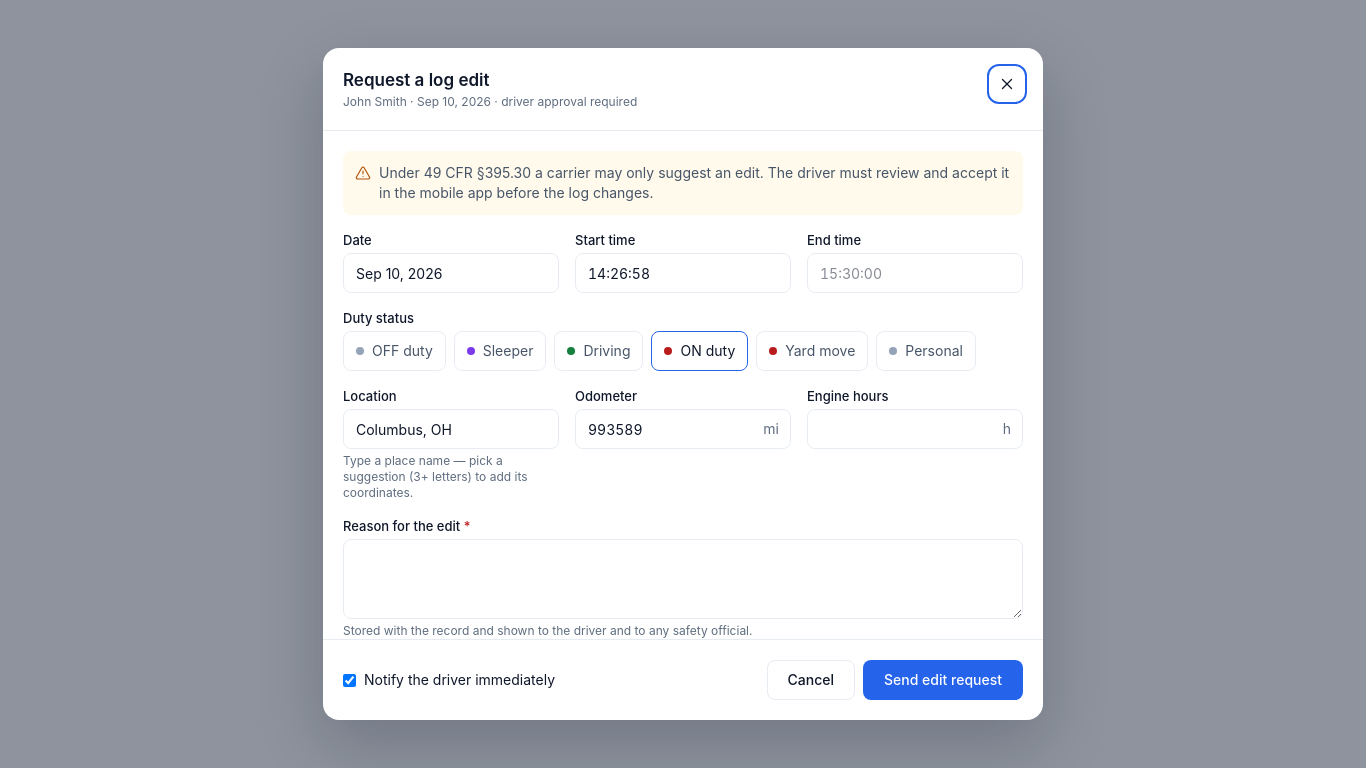
Test case: 11.11 refusals are never silent › DRIVING_TIME_IMMUTABLE is still shown verbatim
The width and height of the screenshot is (1366, 768).
Type "Wrong status." into the text box labelled "Reason for the edit *" at (683, 579), box left=343, top=539, right=1023, bottom=619
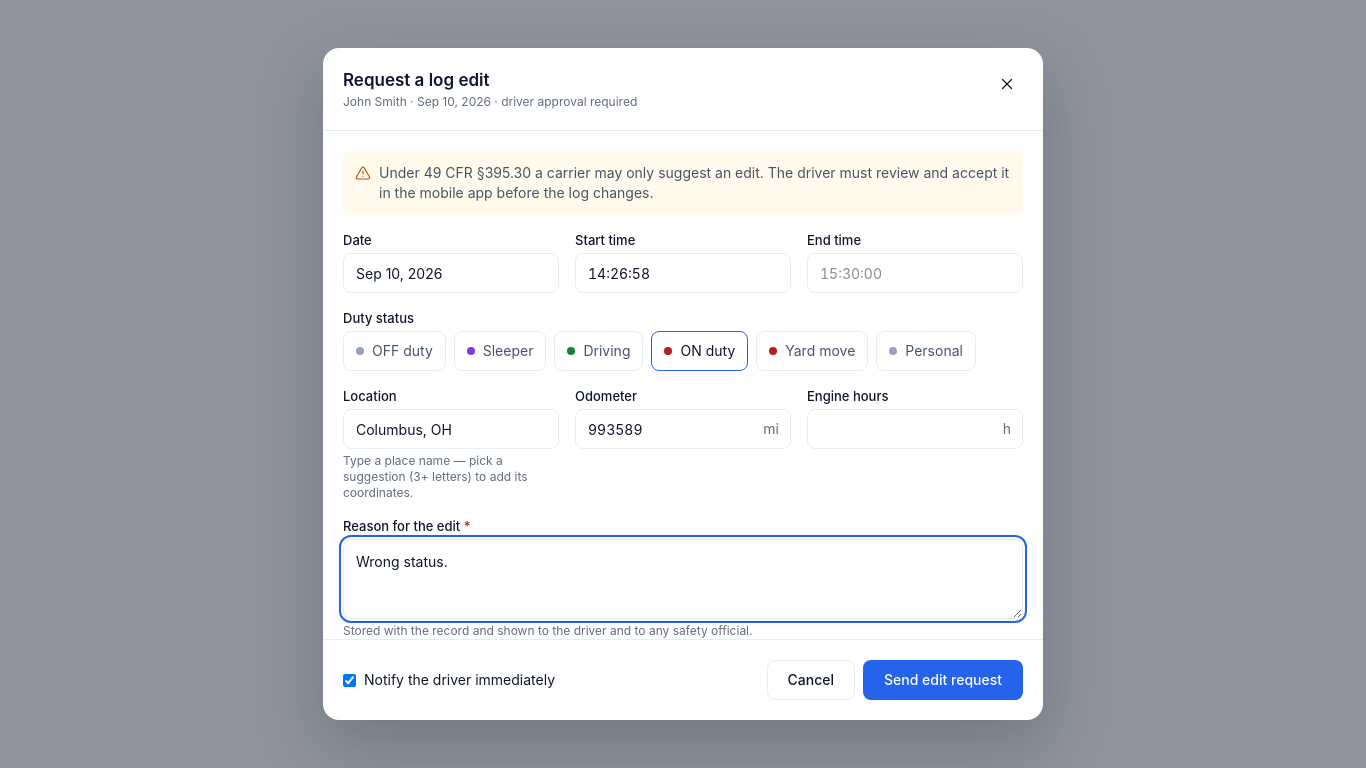
Click the button "Send edit request" at (943, 680), box left=863, top=660, right=1023, bottom=700
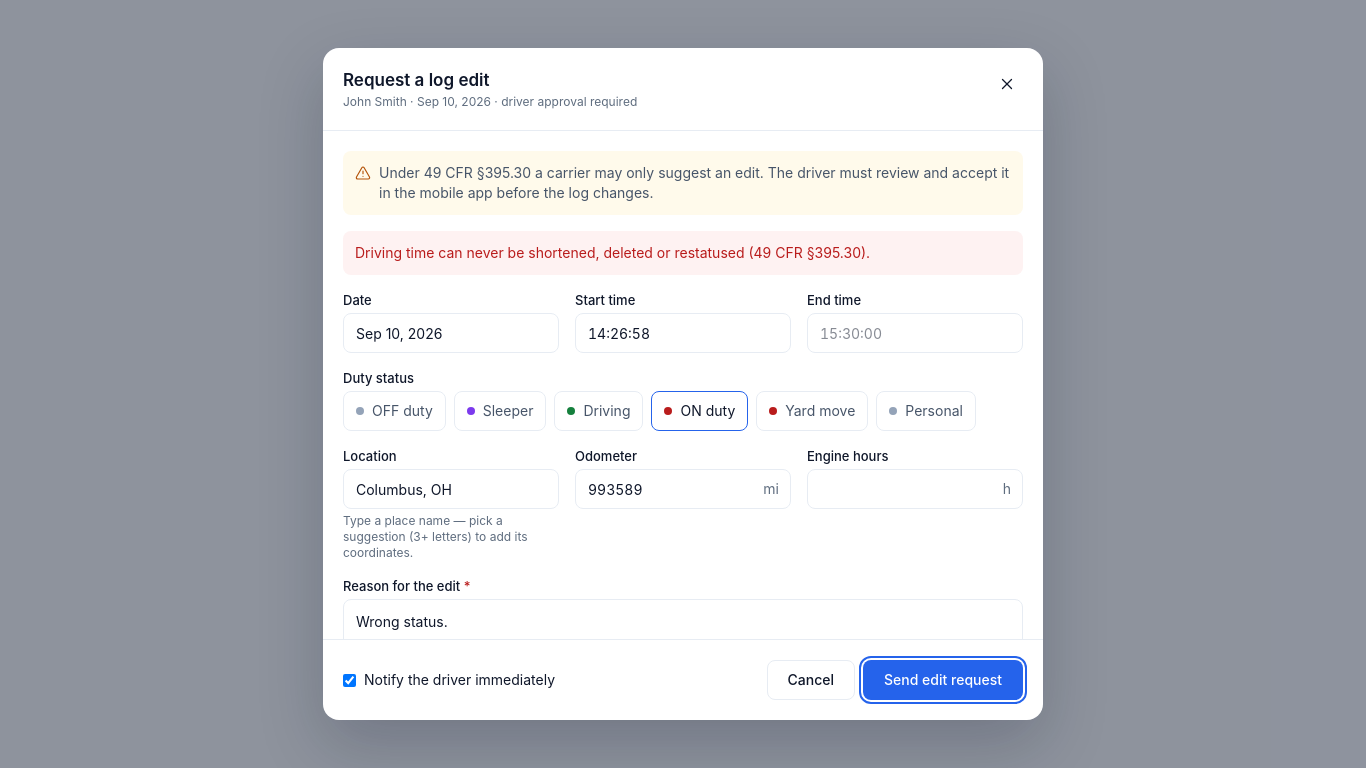
Check: the message reads "Driving time can never be shortened, deleted or restatused (49 CFR §395.30).", box left=355, top=244, right=870, bottom=261
